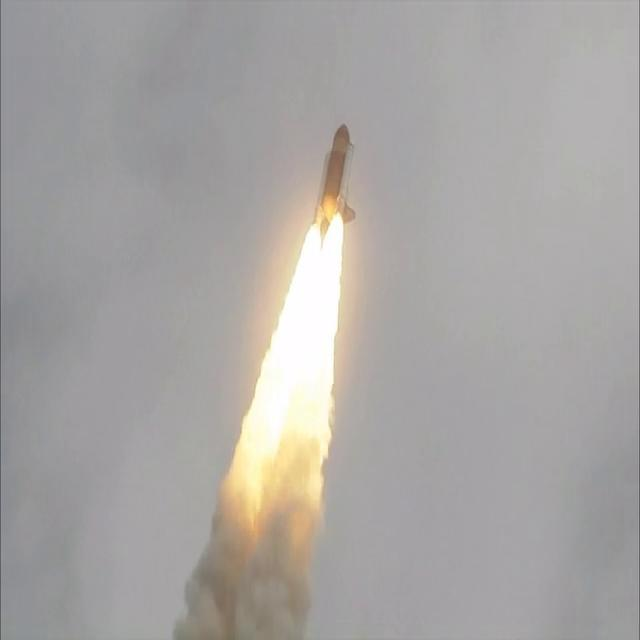fire: (273, 448, 323, 495), (258, 385, 296, 445), (236, 456, 274, 513), (312, 225, 340, 302), (282, 312, 310, 383), (294, 378, 330, 429), (310, 302, 334, 370), (266, 338, 288, 385), (244, 422, 269, 462), (294, 258, 310, 314), (225, 478, 242, 516)
smoke: (211, 584, 239, 640), (188, 580, 214, 636), (248, 592, 276, 634), (282, 592, 305, 640), (205, 556, 235, 591)
